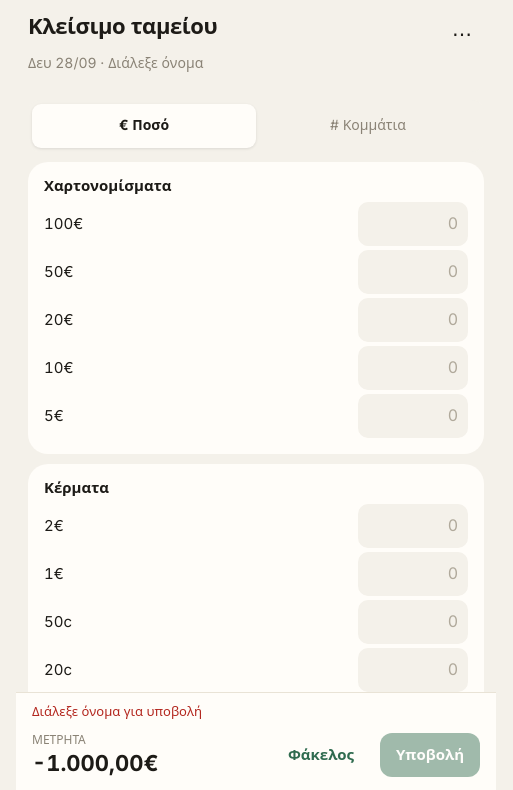
Test case: register flows › flags a Greek thousands separator instead of reading it as 1,50€
The width and height of the screenshot is (513, 790).
In the field named "100€": [413, 224] box [358,202,468,246], type "1.500"
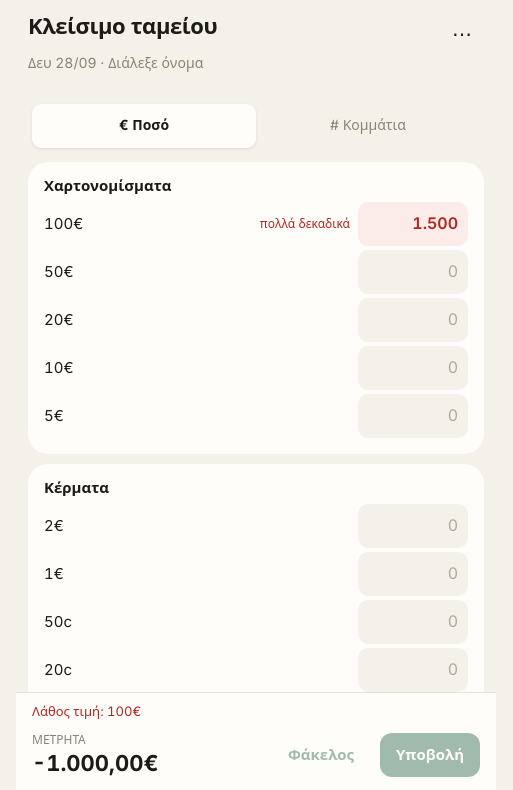
Expected: the button "Φάκελος" is disabled, [272,733,370,777]
